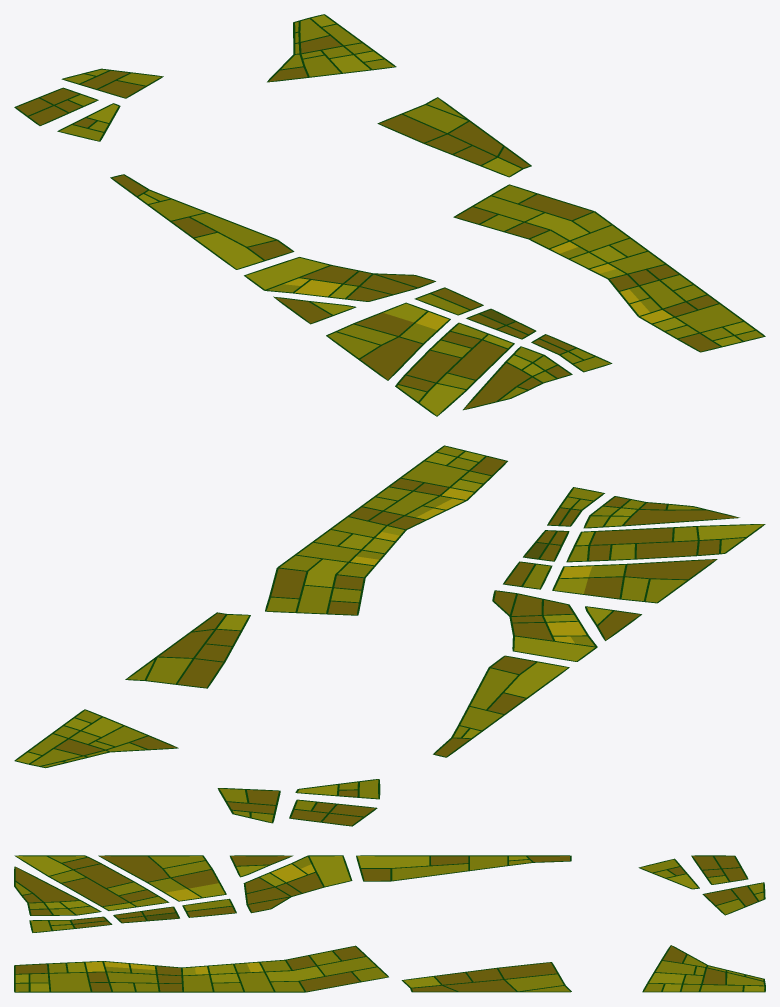
File: SM_Fields.fbx
3 renders of one model, top to bottom at view 1: azimuth 30°, elevation 25°; view 2: azimuth 150°, elevation 25°; view 3: azimuth 270°, elevation 25°, orthographic. The views are drawn at different scales.
Visible parts, largest first — view 1: SM_Fields; view 2: SM_Fields; view 3: SM_Fields.
Part boxes in pixels (left/top/right/bottom): SM_Fields: left=14, top=14, right=765, bottom=416; SM_Fields: left=14, top=445, right=765, bottom=826; SM_Fields: left=14, top=855, right=765, bottom=992.
Bounding box in the file's own units: 2896 × 0.05 × 6707.
